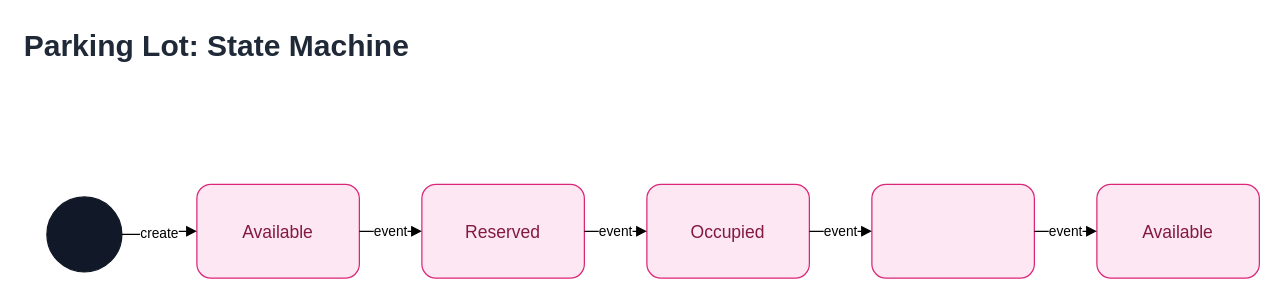
The diagram is 1281 pixels wide and 300 high, and some of its shapes have lost their labels. The centre of each missing label's shape, as x and y in pixels:
PaymentPending: pixel 952 230
Start: pixel 84 234
